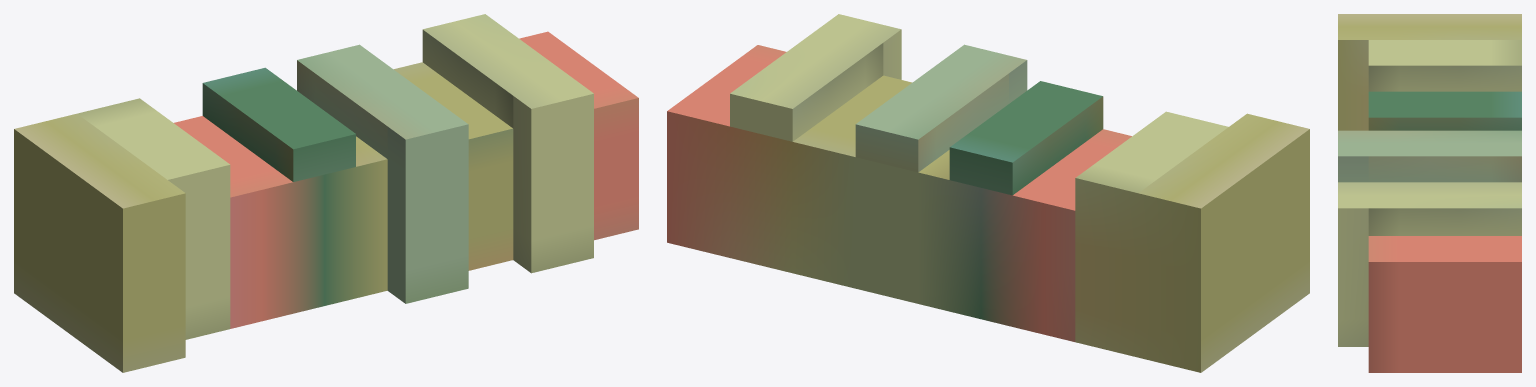
Rendered from Book9Pieces_00.obj.
The picture shows the model from 3 angles, left to right: view 1: azimuth 30°, elevation 25°; view 2: azimuth 150°, elevation 25°; view 3: azimuth 270°, elevation 25°; orthographic projection. The views are drawn at different scales.
Visible parts, largest first — view 1: Book9Pieces_00; view 2: Book9Pieces_00; view 3: Book9Pieces_00.
Part boxes in pixels (x1,y1,x2,y2): Book9Pieces_00: (14, 14, 638, 372); Book9Pieces_00: (667, 14, 1309, 372); Book9Pieces_00: (1338, 14, 1521, 372).
Bounding box in the file's own units: 0.85 × 0.25 × 0.3.
